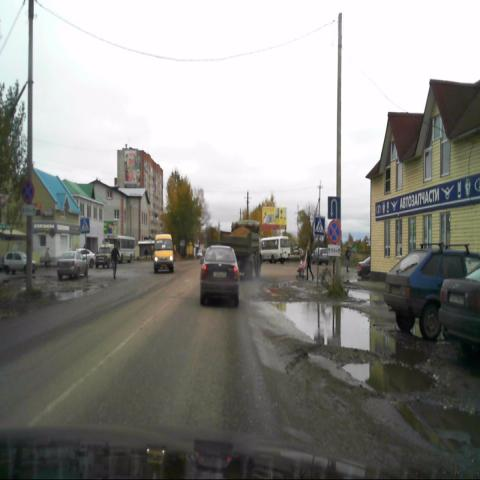6_3_1: (327, 196, 340, 219)
